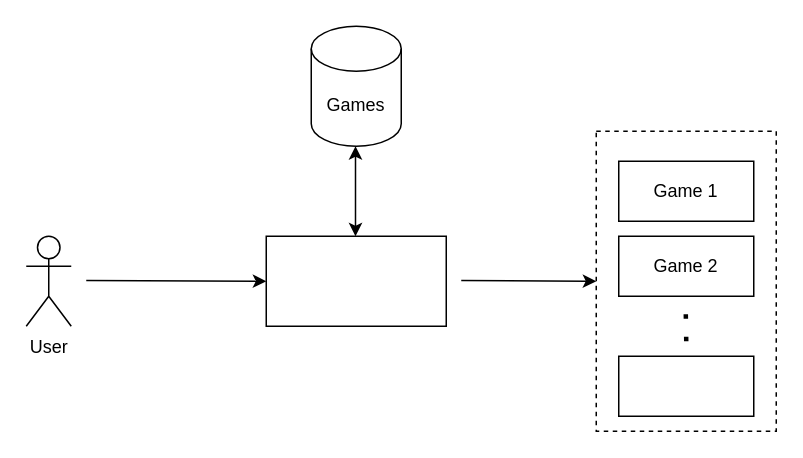
This 803x458 diagram has some shape labels left out. The centre of each missing label's shape, as x and y in pixels:
Game k: the point at 685,385
Game Wish list Prediction System: the point at 355,280
